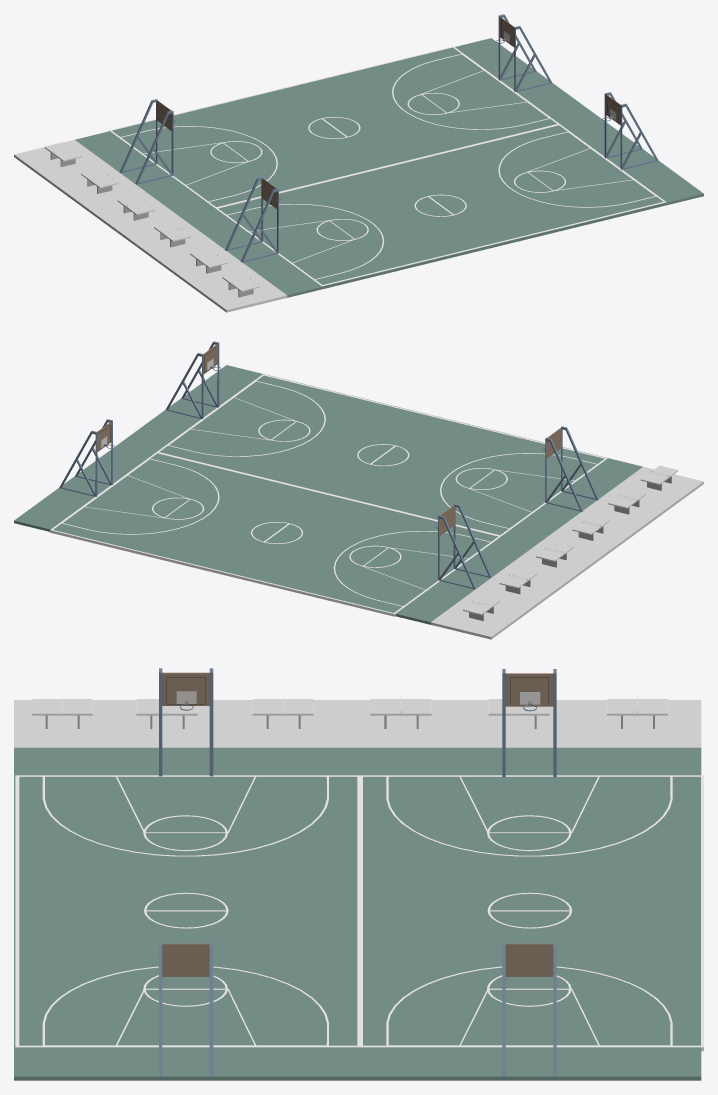
3 renders of one model, top to bottom at view 1: azimuth 30°, elevation 25°; view 2: azimuth 150°, elevation 25°; view 3: azimuth 270°, elevation 25°, orthographic. The views are drawn at different scales.
Parts seen in each view (by area): view 1: Rectangle78, Rectangle81, Rectangle83, Rectangle80, Line29, Line35, Line34, Line33, Line31, Line24, Line30, Line36 (+2 smaller); view 2: Rectangle78, Rectangle81, Rectangle80, Rectangle83, Line32, Line36, Line33, Line19, Line30, Line24, Line29, Line34 (+1 smaller); view 3: Rectangle78, Rectangle81, Rectangle83, Rectangle80, Box44, Box50, Box41, Box49, Line26, Line22, Line24, Box53 (+5 smaller).
Boxes of the visible parts, bbox=[...] form: Rectangle78: bbox=[75, 38, 703, 297]; Rectangle81: bbox=[14, 139, 287, 312]; Rectangle83: bbox=[215, 124, 666, 286]; Rectangle80: bbox=[109, 46, 559, 208]; Line29: bbox=[135, 110, 173, 184]; Line35: bbox=[620, 103, 658, 169]; Line34: bbox=[241, 188, 278, 262]; Line33: bbox=[225, 177, 263, 250]; Line31: bbox=[514, 26, 552, 91]; Line24: bbox=[498, 131, 655, 207]; Line30: bbox=[119, 99, 157, 173]; Line36: bbox=[604, 92, 642, 158]; Rectangle78: bbox=[14, 365, 642, 624]; Rectangle81: bbox=[431, 466, 703, 639]; Rectangle80: bbox=[50, 452, 500, 616]; Rectangle83: bbox=[156, 374, 607, 536]; Line32: bbox=[59, 430, 97, 496]; Line36: bbox=[165, 353, 203, 418]; Line33: bbox=[545, 437, 583, 511]; Line19: bbox=[61, 458, 219, 534]; Line30: bbox=[438, 515, 476, 589]; Line24: bbox=[167, 380, 325, 456]; Line29: bbox=[453, 504, 491, 577]; Line34: bbox=[561, 426, 598, 500]; Rectangle78: bbox=[14, 748, 701, 1080]; Rectangle81: bbox=[14, 700, 701, 747]; Rectangle83: bbox=[15, 775, 360, 1047]; Rectangle80: bbox=[359, 775, 703, 1051]; Box44: bbox=[505, 943, 553, 976]; Box50: bbox=[162, 943, 209, 976]; Box41: bbox=[505, 673, 553, 706]; Box49: bbox=[162, 672, 209, 705]; Line26: bbox=[42, 775, 328, 856]; Line22: bbox=[386, 775, 672, 856]; Line24: bbox=[42, 966, 328, 1046]; Box53: bbox=[607, 699, 667, 713].
Size of the model in its own units: 39397 by 5275 by 30513.
